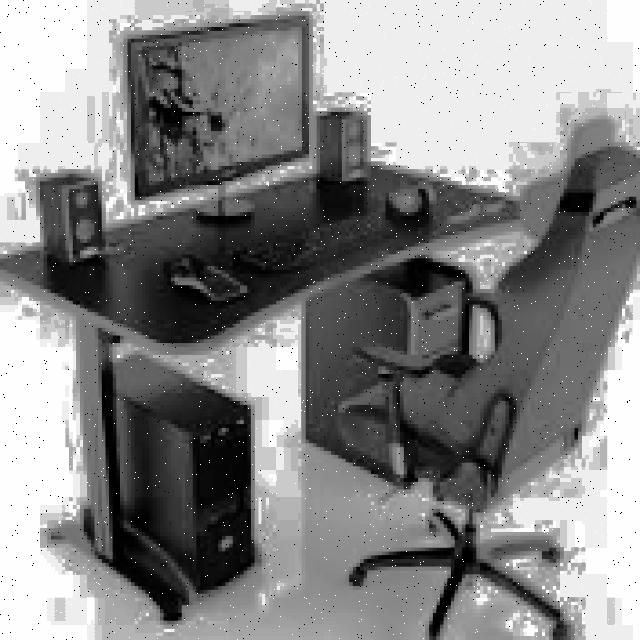book: (338, 127, 640, 640)
table: (0, 150, 535, 621)
